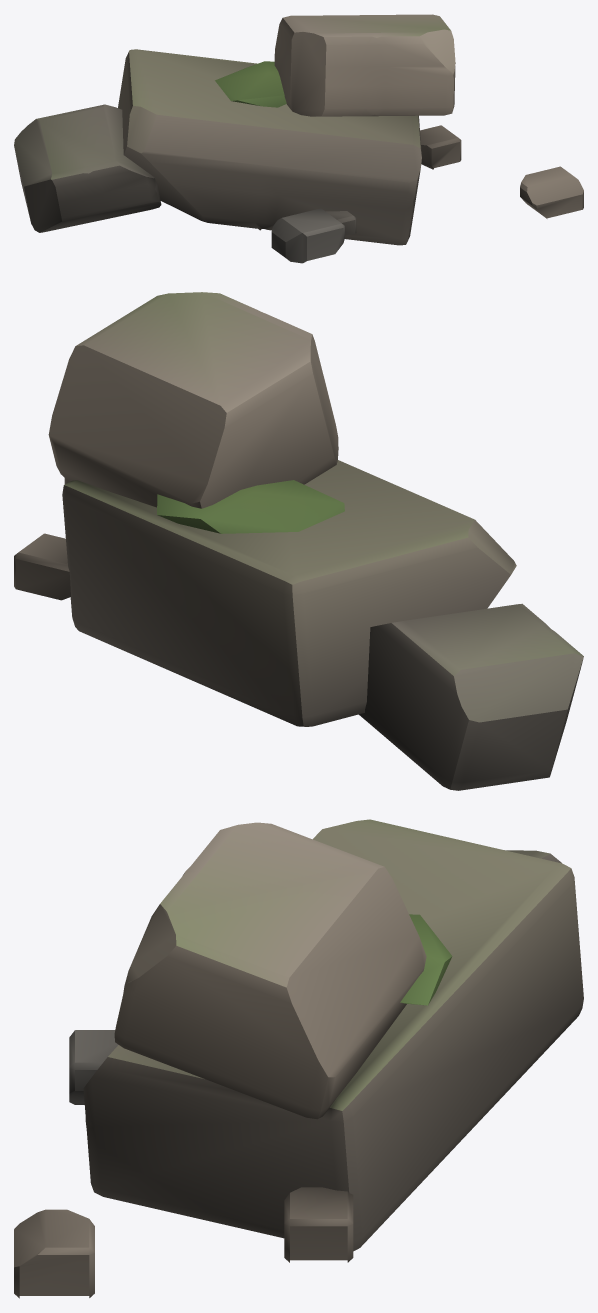
File: ruins-rubble-b-v3.glb
3 views of the same model, one above another, from view 1: azimuth 30°, elevation 25°; view 2: azimuth 150°, elevation 25°; view 3: azimuth 270°, elevation 25° (orthographic). The views are drawn at different scales.
Visible parts, largest first — view 1: 0_ruins_rubble_1; view 2: 0_ruins_rubble_1; view 3: 0_ruins_rubble_1.
Boxes of the visible parts, box(x1,y1,x2,y2) form: 0_ruins_rubble_1: box(14, 14, 583, 263); 0_ruins_rubble_1: box(14, 292, 583, 790); 0_ruins_rubble_1: box(14, 819, 583, 1298).
Bounding box in the file's own units: 1.53 × 0.6566 × 1.03.
